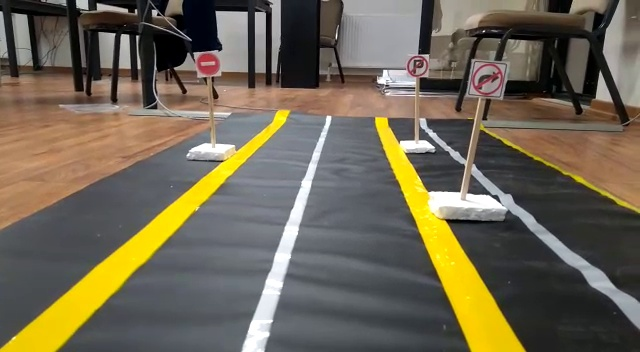girisi_olmayan_yol: (196, 51, 220, 77)
park_yapilmaz: (404, 53, 432, 78)
saga_donulmez: (465, 59, 507, 97)
